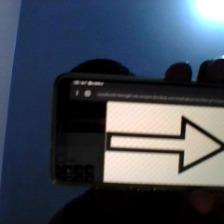right: (106, 115, 221, 174)
